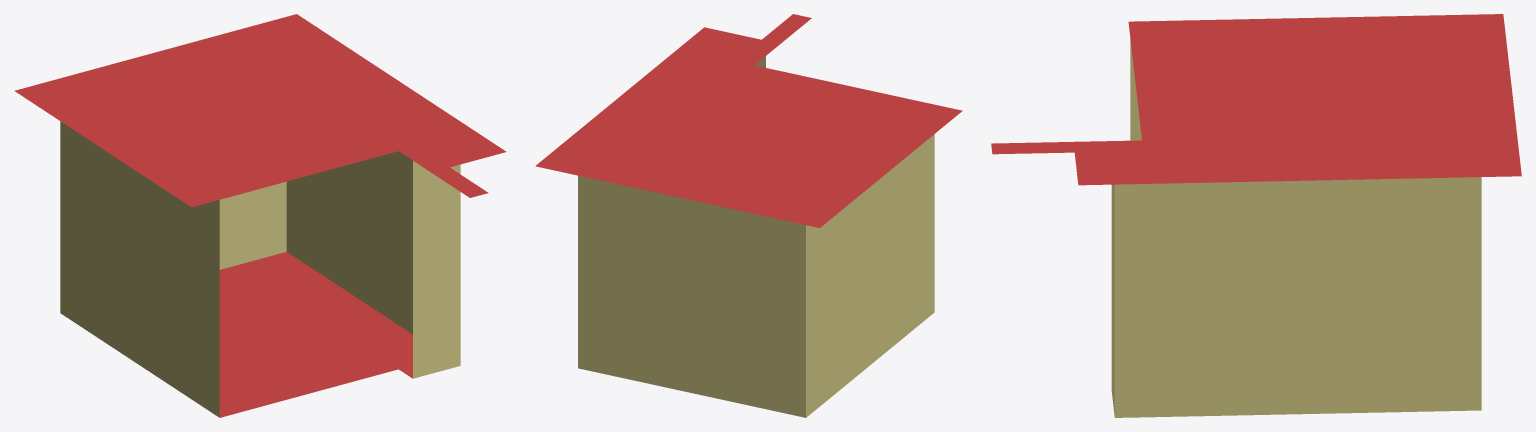
3 views of the same model, side by side, from view 1: azimuth 30°, elevation 25°; view 2: azimuth 150°, elevation 25°; view 3: azimuth 270°, elevation 25° (orthographic). The views are drawn at different scales.
Size of the model in its own units: 7.93 by 10.39 by 5.39.
